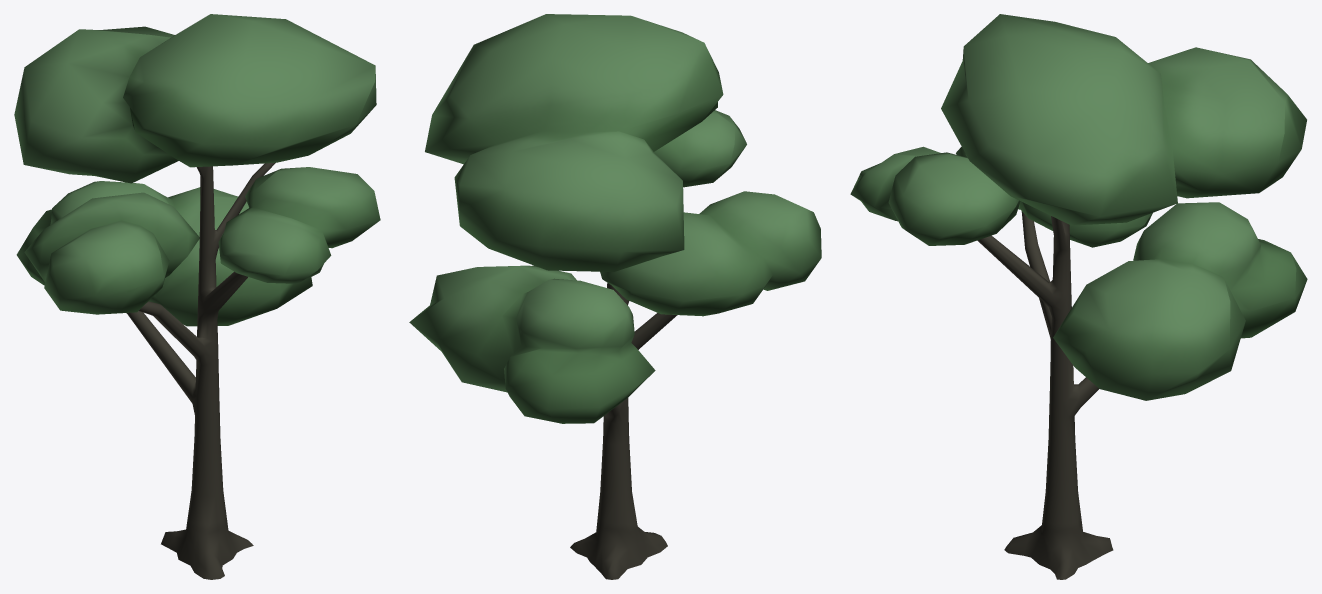
The model's file is TreeA.fbx.
3 renders of one model, left to right at view 1: azimuth 30°, elevation 25°; view 2: azimuth 150°, elevation 25°; view 3: azimuth 270°, elevation 25°, orthographic. The views are drawn at different scales.
Visible parts, largest first — view 1: TreeA; view 2: TreeA; view 3: TreeA.
Boxes of the visible parts, x1,y1,x2,y2 form: TreeA: [14, 14, 380, 579]; TreeA: [409, 14, 821, 579]; TreeA: [850, 14, 1307, 579].
Bounding box in the file's own units: 1394 × 1585 × 2034.
Materials: 1 (1 with a texture image).
